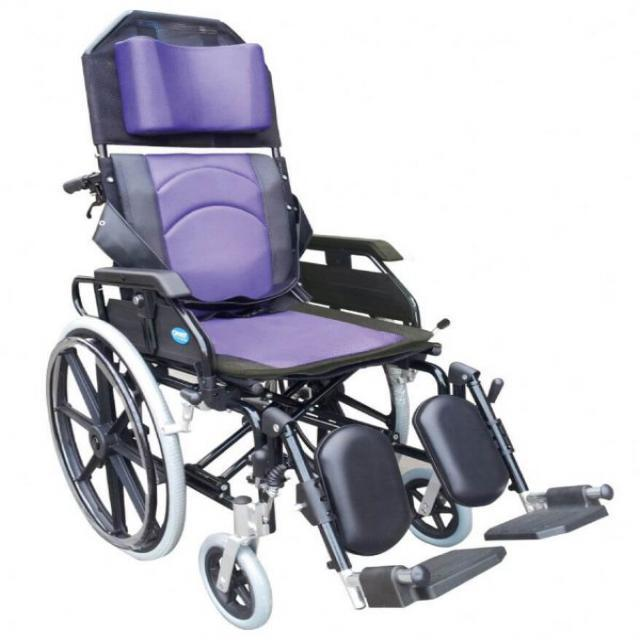wheelchair: (22, 0, 619, 639)
